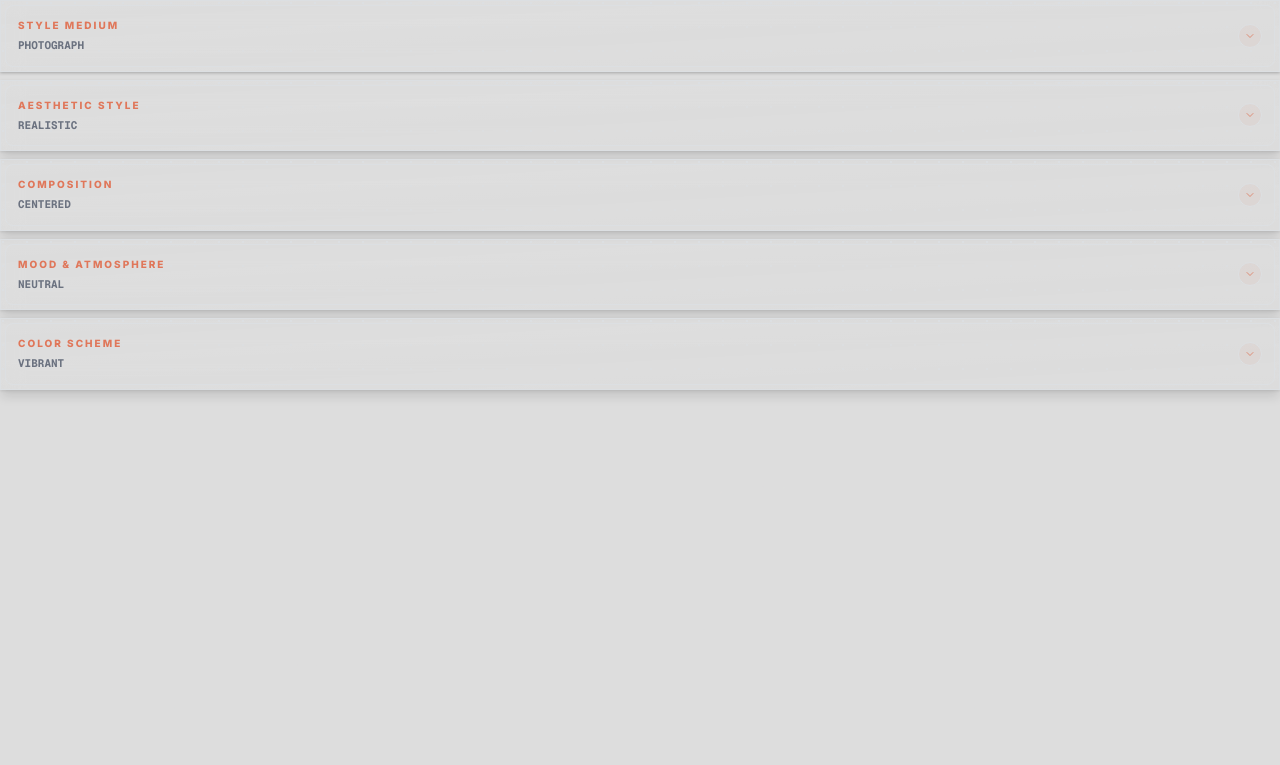
AestheticsSection › implements accordion behavior - only one section expanded at a time
Click the button with aria-label "Style Medium section" at (69, 25), box [5,5,1275,66]
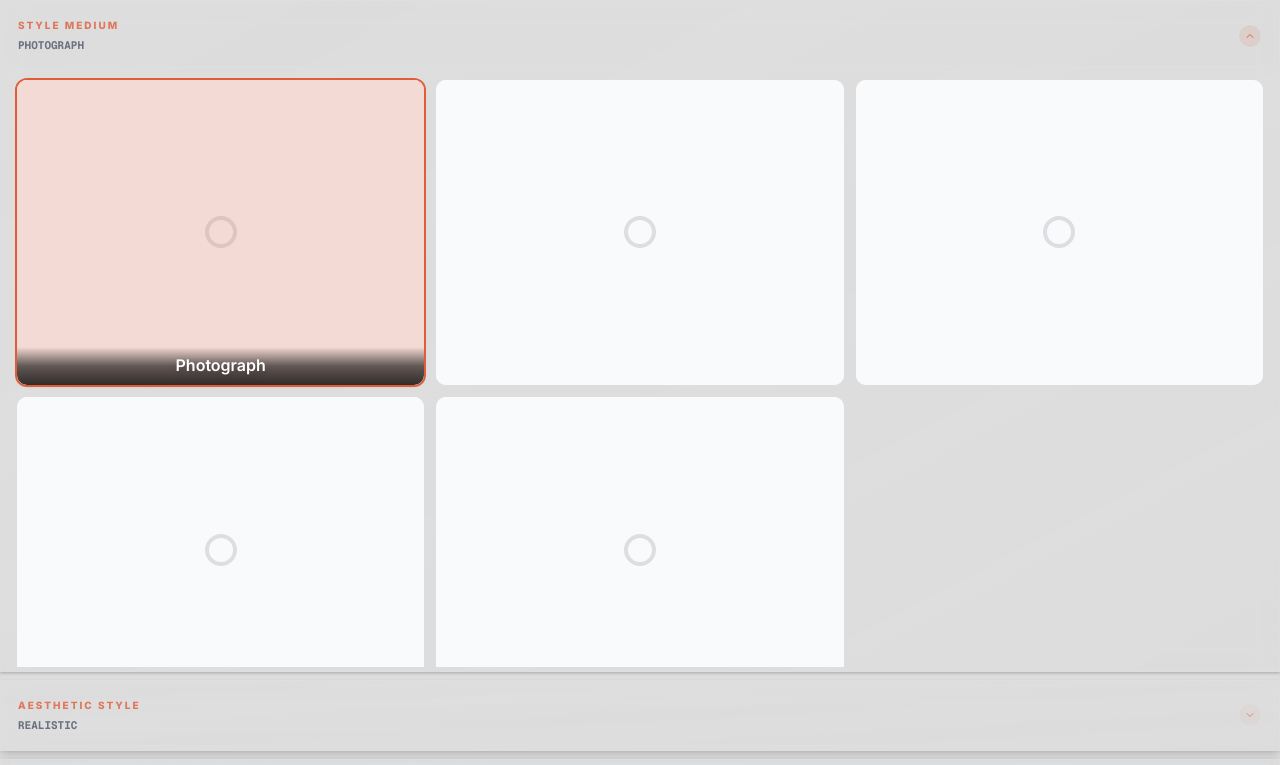
Click the button with aria-label "Aesthetic Style section" at (79, 704), box [5,684,1275,746]
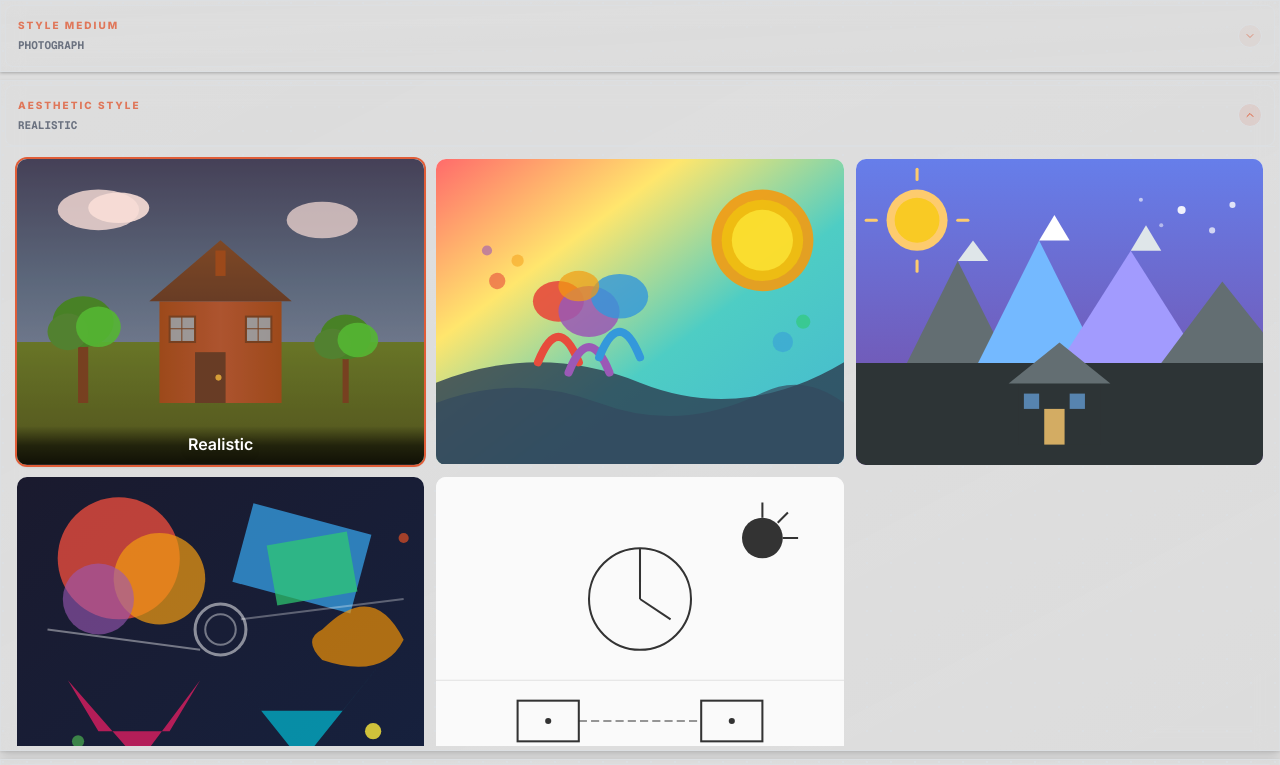
Result: the button with aria-label "Aesthetic Style section" is expanded at [5,84,1275,146]
